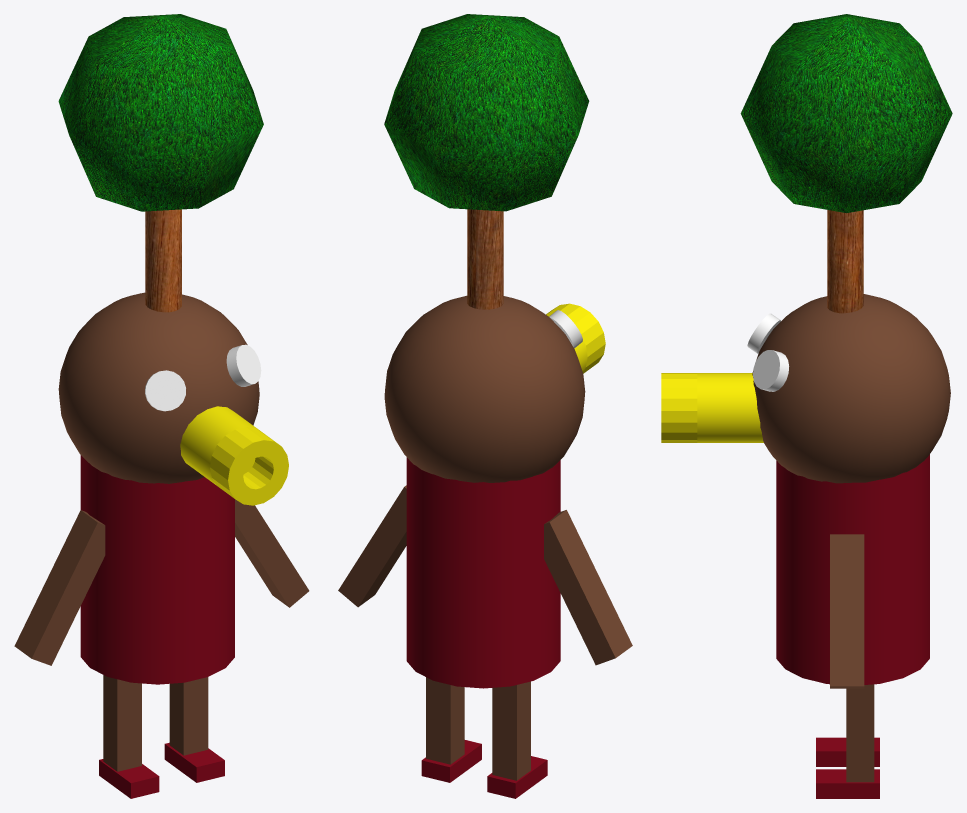
Rendered from GunEnemy.fbx.
3 views of the same model, side by side, from view 1: azimuth 30°, elevation 25°; view 2: azimuth 150°, elevation 25°; view 3: azimuth 270°, elevation 25° (orthographic).
Visible parts, largest first — view 1: Sphere002, Cylinder001, Sphere001, Cylinder005, Box001, Cylinder004, Box002, Box003, Box004, Box006, Box005, Cylinder003 (+1 smaller); view 2: Sphere002, Cylinder001, Sphere001, Box001, Cylinder004, Box003, Box002, Box004, Cylinder005, Box006, Box005, Cylinder003; view 3: Sphere002, Sphere001, Cylinder001, Cylinder005, Box002, Cylinder004, Box004, Box006, Cylinder002, Box005, Cylinder003.
Boxes of the visible parts, x1,y1,x2,y2 form: Sphere002: (58, 14, 263, 211); Cylinder001: (80, 455, 234, 684); Sphere001: (58, 292, 259, 483); Cylinder005: (180, 406, 288, 505); Box001: (14, 510, 105, 665); Cylinder004: (145, 209, 181, 312); Box002: (235, 499, 309, 607); Box003: (103, 675, 141, 771); Box004: (169, 677, 208, 755); Box006: (164, 742, 224, 782); Box005: (99, 759, 159, 798); Cylinder003: (145, 370, 185, 411); Sphere002: (384, 14, 589, 211); Cylinder001: (406, 457, 560, 688); Sphere001: (384, 295, 585, 482); Box001: (544, 510, 632, 665); Cylinder004: (467, 209, 503, 309); Box003: (492, 681, 530, 780); Box002: (338, 485, 406, 607); Box004: (426, 677, 464, 764); Cylinder005: (546, 303, 605, 373); Box006: (421, 740, 481, 782); Box005: (487, 756, 547, 798); Cylinder003: (549, 310, 582, 348); Sphere002: (740, 14, 952, 213); Sphere001: (752, 294, 950, 483); Cylinder001: (776, 454, 929, 684); Cylinder005: (661, 373, 763, 442); Box002: (830, 534, 864, 688); Cylinder004: (827, 210, 863, 313); Box004: (846, 684, 874, 782); Box006: (816, 769, 879, 798); Cylinder002: (753, 350, 789, 391); Box005: (816, 737, 879, 766); Cylinder003: (747, 313, 780, 353).
Size of the model in its own units: 90.8 by 82.68 by 237.
Materials: 13 (13 with a texture image).
